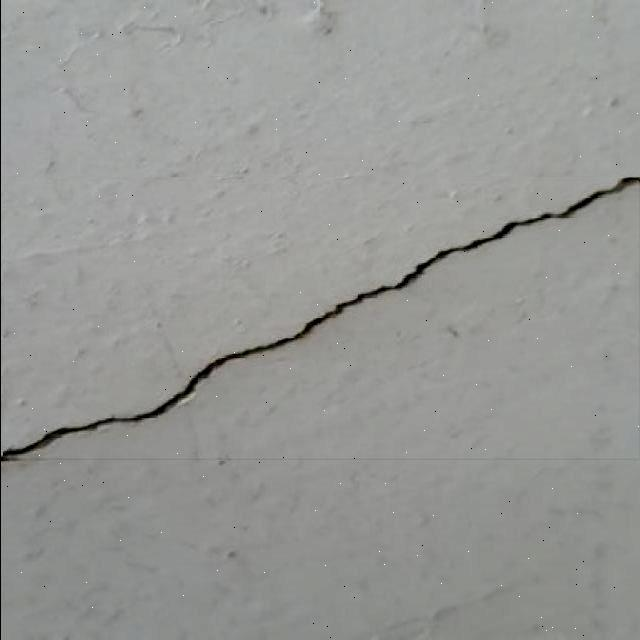crack: (2, 174, 638, 460)
